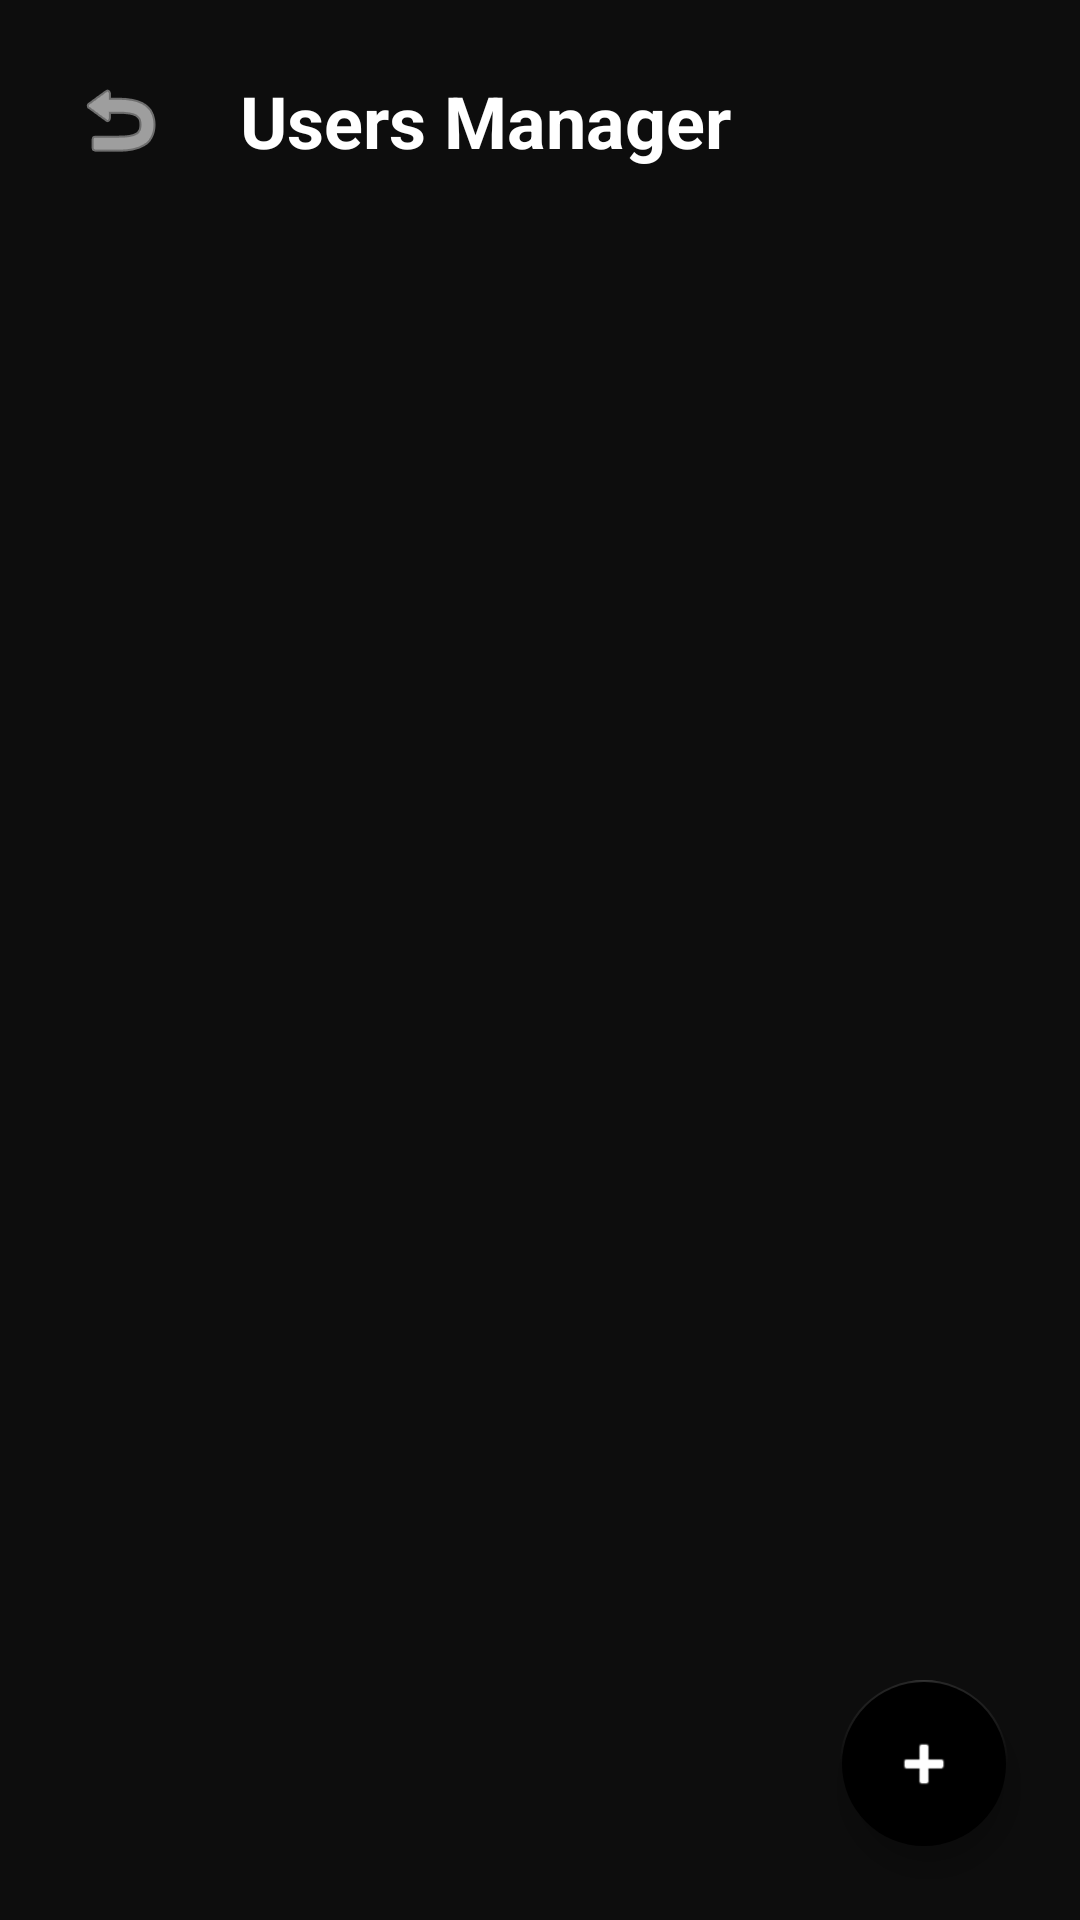

Icon bounding boxes for this 1080x1920 phone screenshot, format Rect(x1, y1, x2, y2):
Add User: Rect(842, 1680, 1006, 1846)
Back: Rect(87, 89, 156, 152)
